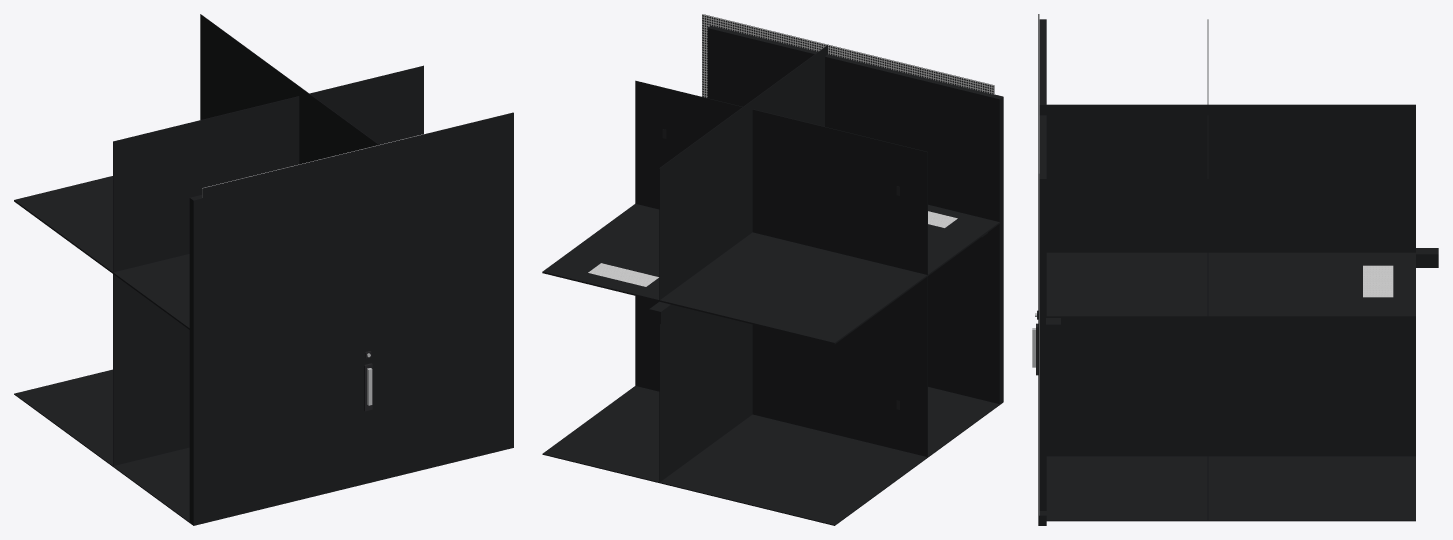
File: WALL-CABINET.kit.glb
3 views of the same model, side by side, from view 1: azimuth 30°, elevation 25°; view 2: azimuth 150°, elevation 25°; view 3: azimuth 270°, elevation 25° (orthographic). The views are drawn at different scales.
Parts seen in each view (by area): view 1: door:solid, wall:bracket, door:solid:infill, door:glass, base:panel, top:solid, side:panel:infill, side:panel, door:glass:stile, door:glass:rail; view 2: wall:bracket, door:solid, base:panel, side:panel, top:solid, side:panel:infill, door:glass, door:perforated:infill, door:solid:infill, door:glass:stile, door:glass:infill, side:panel:edge (+1 smaller); view 3: side:panel:infill, side:panel, base:panel, top:solid, door:glass, side:panel:edge, brush:rear-right, door:solid:infill, wall:bracket, door:perforated:infill.
Part boxes in pixels (x1=…): door:solid: x1=192, y1=125, x2=504, y2=524; wall:bracket: x1=113, y1=65, x2=423, y2=465; door:solid:infill: x1=202, y1=112, x2=513, y2=513; door:glass: x1=189, y1=125, x2=504, y2=524; base:panel: x1=14, y1=369, x2=494, y2=525; top:solid: x1=14, y1=176, x2=504, y2=332; side:panel:infill: x1=200, y1=14, x2=380, y2=414; side:panel: x1=200, y1=24, x2=379, y2=477; door:glass:stile: x1=190, y1=195, x2=202, y2=524; door:glass:rail: x1=203, y1=438, x2=513, y2=522; wall:bracket: x1=635, y1=80, x2=927, y2=456; door:solid: x1=707, y1=26, x2=999, y2=402; base:panel: x1=542, y1=386, x2=1003, y2=525; side:panel: x1=659, y1=57, x2=824, y2=482; top:solid: x1=542, y1=203, x2=1003, y2=344; side:panel:infill: x1=659, y1=45, x2=827, y2=473; door:glass: x1=707, y1=26, x2=1003, y2=404; door:perforated:infill: x1=702, y1=14, x2=994, y2=97; door:solid:infill: x1=702, y1=14, x2=994, y2=97; door:glass:stile: x1=991, y1=94, x2=1001, y2=403; door:glass:infill: x1=702, y1=15, x2=993, y2=97; side:panel:edge: x1=659, y1=406, x2=752, y2=483; side:panel:infill: x1=1038, y1=104, x2=1415, y2=446; side:panel: x1=1046, y1=115, x2=1415, y2=456; base:panel: x1=1046, y1=456, x2=1415, y2=521; top:solid: x1=1046, y1=252, x2=1415, y2=317; door:glass: x1=1039, y1=19, x2=1046, y2=510; side:panel:edge: x1=1061, y1=447, x2=1415, y2=456; brush:rear-right: x1=1363, y1=265, x2=1393, y2=297; door:solid:infill: x1=1038, y1=14, x2=1039, y2=515; wall:bracket: x1=1207, y1=19, x2=1208, y2=520; door:perforated:infill: x1=1039, y1=14, x2=1039, y2=515.
Bounding box in the file's own units: 1.04 × 1.03 × 1.08.
8 materials, 2 textured.
